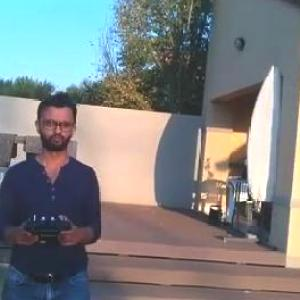follow: (0, 84, 113, 299)
